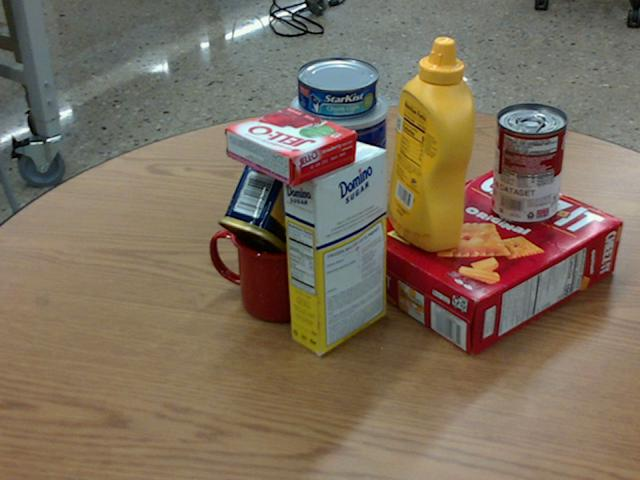cracker_box: (357, 164, 620, 355)
gelatin_box: (223, 105, 356, 186)
large_marker: (419, 117, 439, 219)
master_chef_can: (292, 84, 389, 240)
mug: (207, 205, 323, 321)
mustard_bottle: (388, 36, 474, 251)
potted_meat_can: (217, 140, 330, 264)
sugar_box: (280, 140, 385, 354)
tomato_soup_can: (491, 102, 566, 223)
tuna_fish_can: (296, 56, 378, 117)
